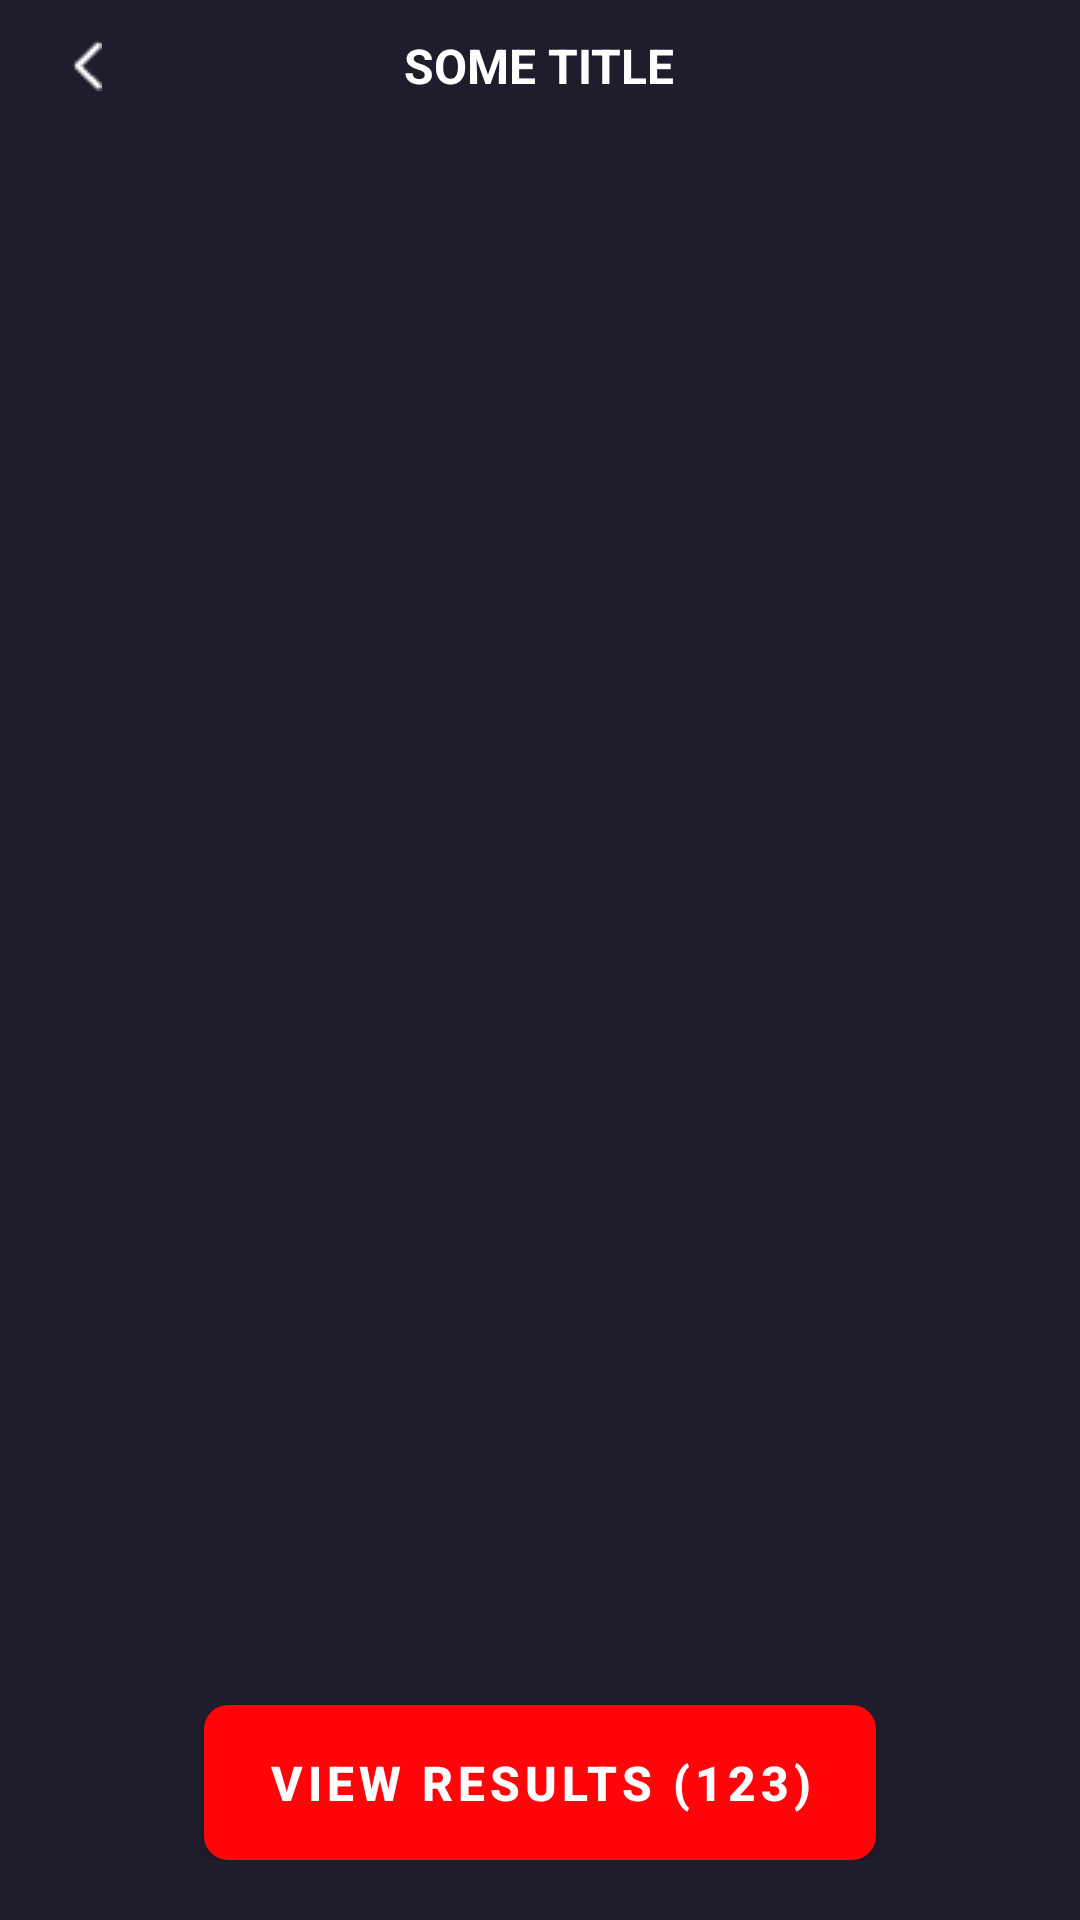

Screen size 1080×1920. Icon name, then its center in pixels as point (x, y):
back: point (88, 66)
